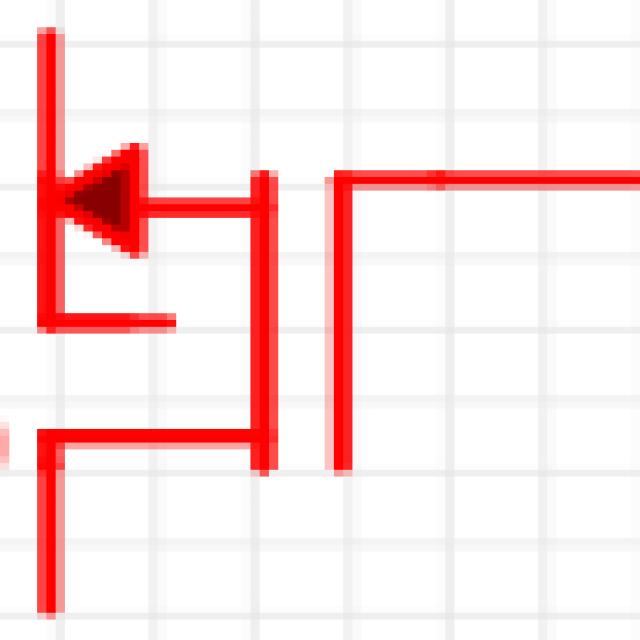nmos: (19, 1, 640, 613)
